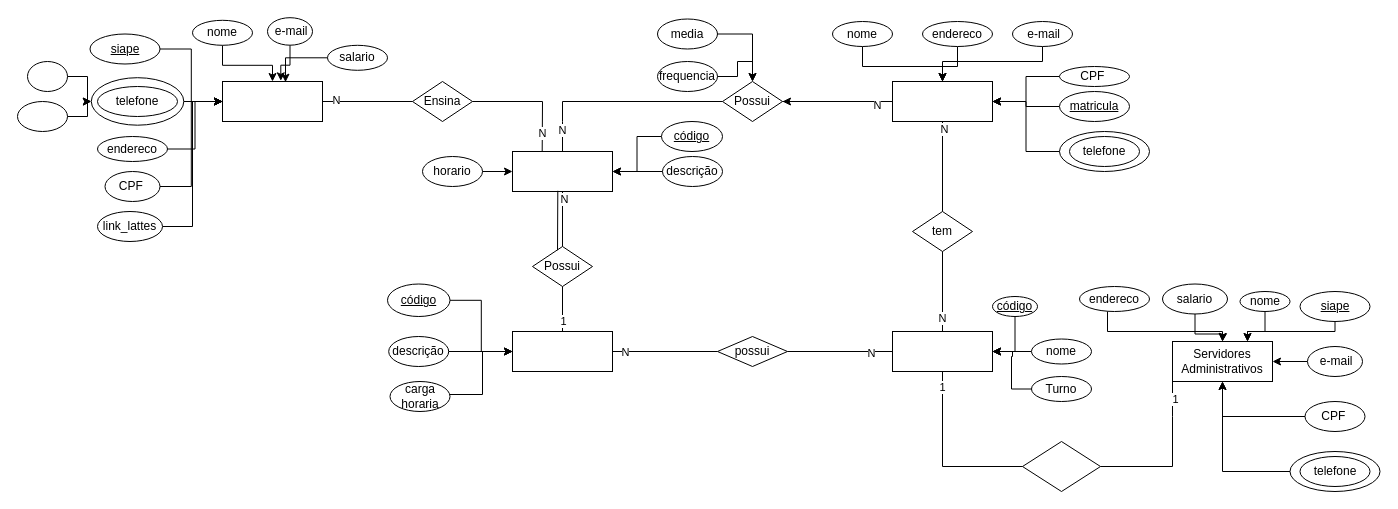
Image size: 1398x509. Some labels were removed from this diagram. The shapes that lost their labels are listed below. From the top down, each one's centre as x and y in pixels, then its label:
(47,76): ddd
(42,116): numero
(272,101): Professores
(942,101): Alunos
(562,171): Turmas
(562,351): Disciplinas
(942,351): Cursos
(1061,466): gerencia
